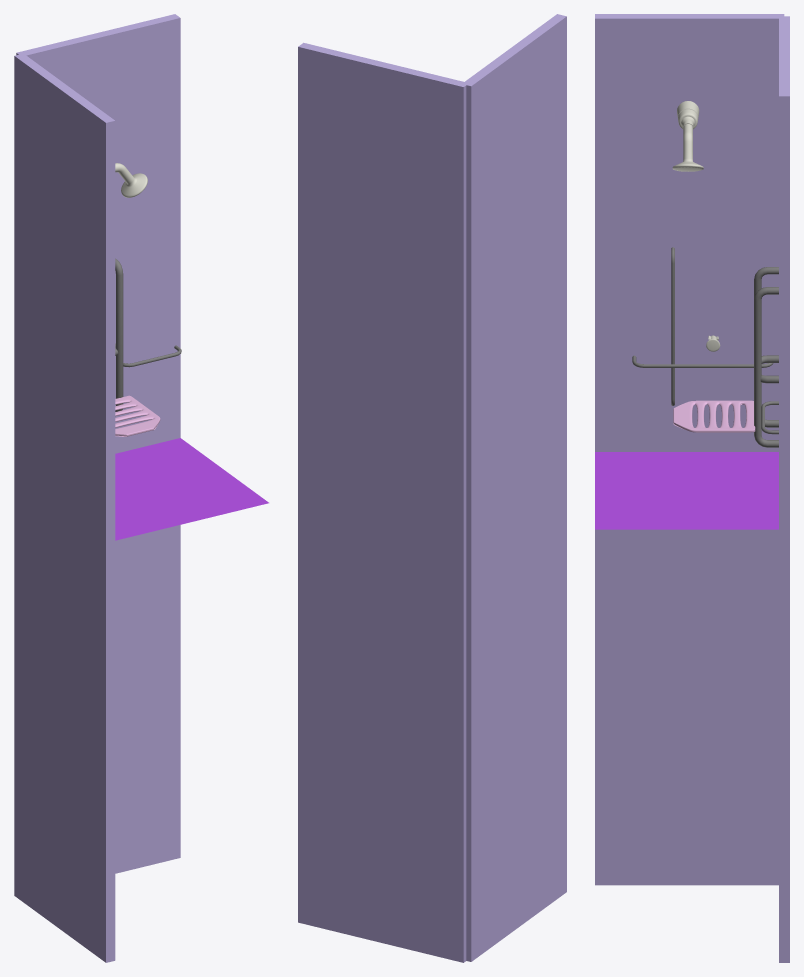
The model's file is VR_assets.fbx.
The picture shows the model from 3 angles, left to right: view 1: azimuth 30°, elevation 25°; view 2: azimuth 150°, elevation 25°; view 3: azimuth 270°, elevation 25°; orthographic projection. The views are drawn at different scales.
Visible parts, largest first — view 1: Cube, Cube.001, Plane, Cube.002, Plane.002, Object_3.001; view 2: Cube.001, Cube; view 3: Cube, Plane, Cube.001, Cube.002, Plane.002, Object_3.001, Plane.001, Plane.003.
Boxes of the visible parts, x1,y1,x2,y2 form: Cube: (14, 55, 115, 962); Cube.001: (16, 14, 180, 873); Plane: (115, 438, 268, 540); Cube.002: (115, 395, 160, 436); Plane.002: (115, 258, 123, 411); Object_3.001: (115, 163, 147, 197); Cube.001: (298, 42, 468, 962); Cube: (462, 14, 566, 961); Cube: (595, 14, 784, 885); Plane: (595, 452, 778, 529); Cube.001: (779, 16, 789, 962); Cube.002: (673, 400, 755, 432); Plane.002: (754, 287, 778, 447); Object_3.001: (672, 101, 703, 171); Plane.001: (671, 247, 674, 405); Plane.003: (632, 355, 773, 367).
Size of the model in its own units: 206 by 1011 by 206.
